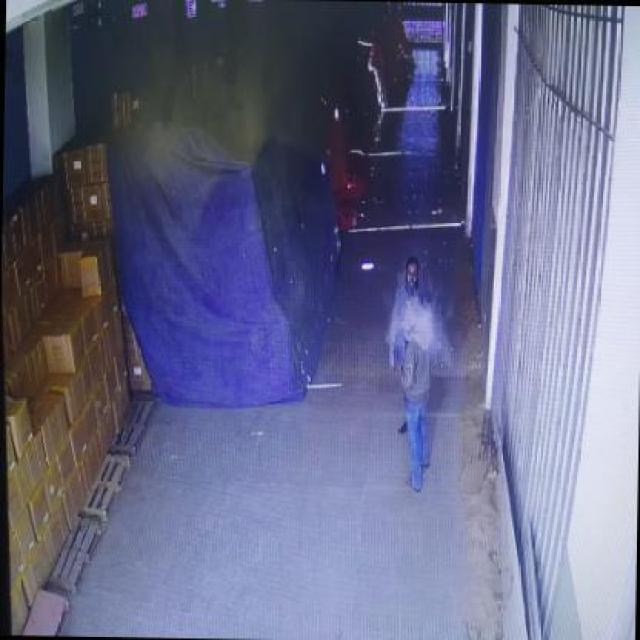fire: (388, 280, 454, 362)
